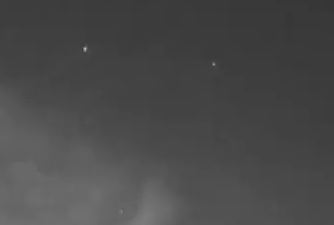Target: (84, 46, 214, 211)
